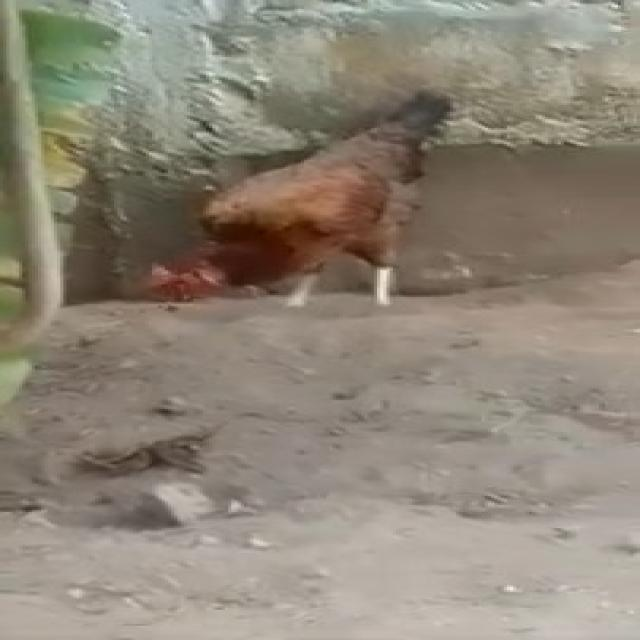stand bath: (117, 80, 463, 329)
